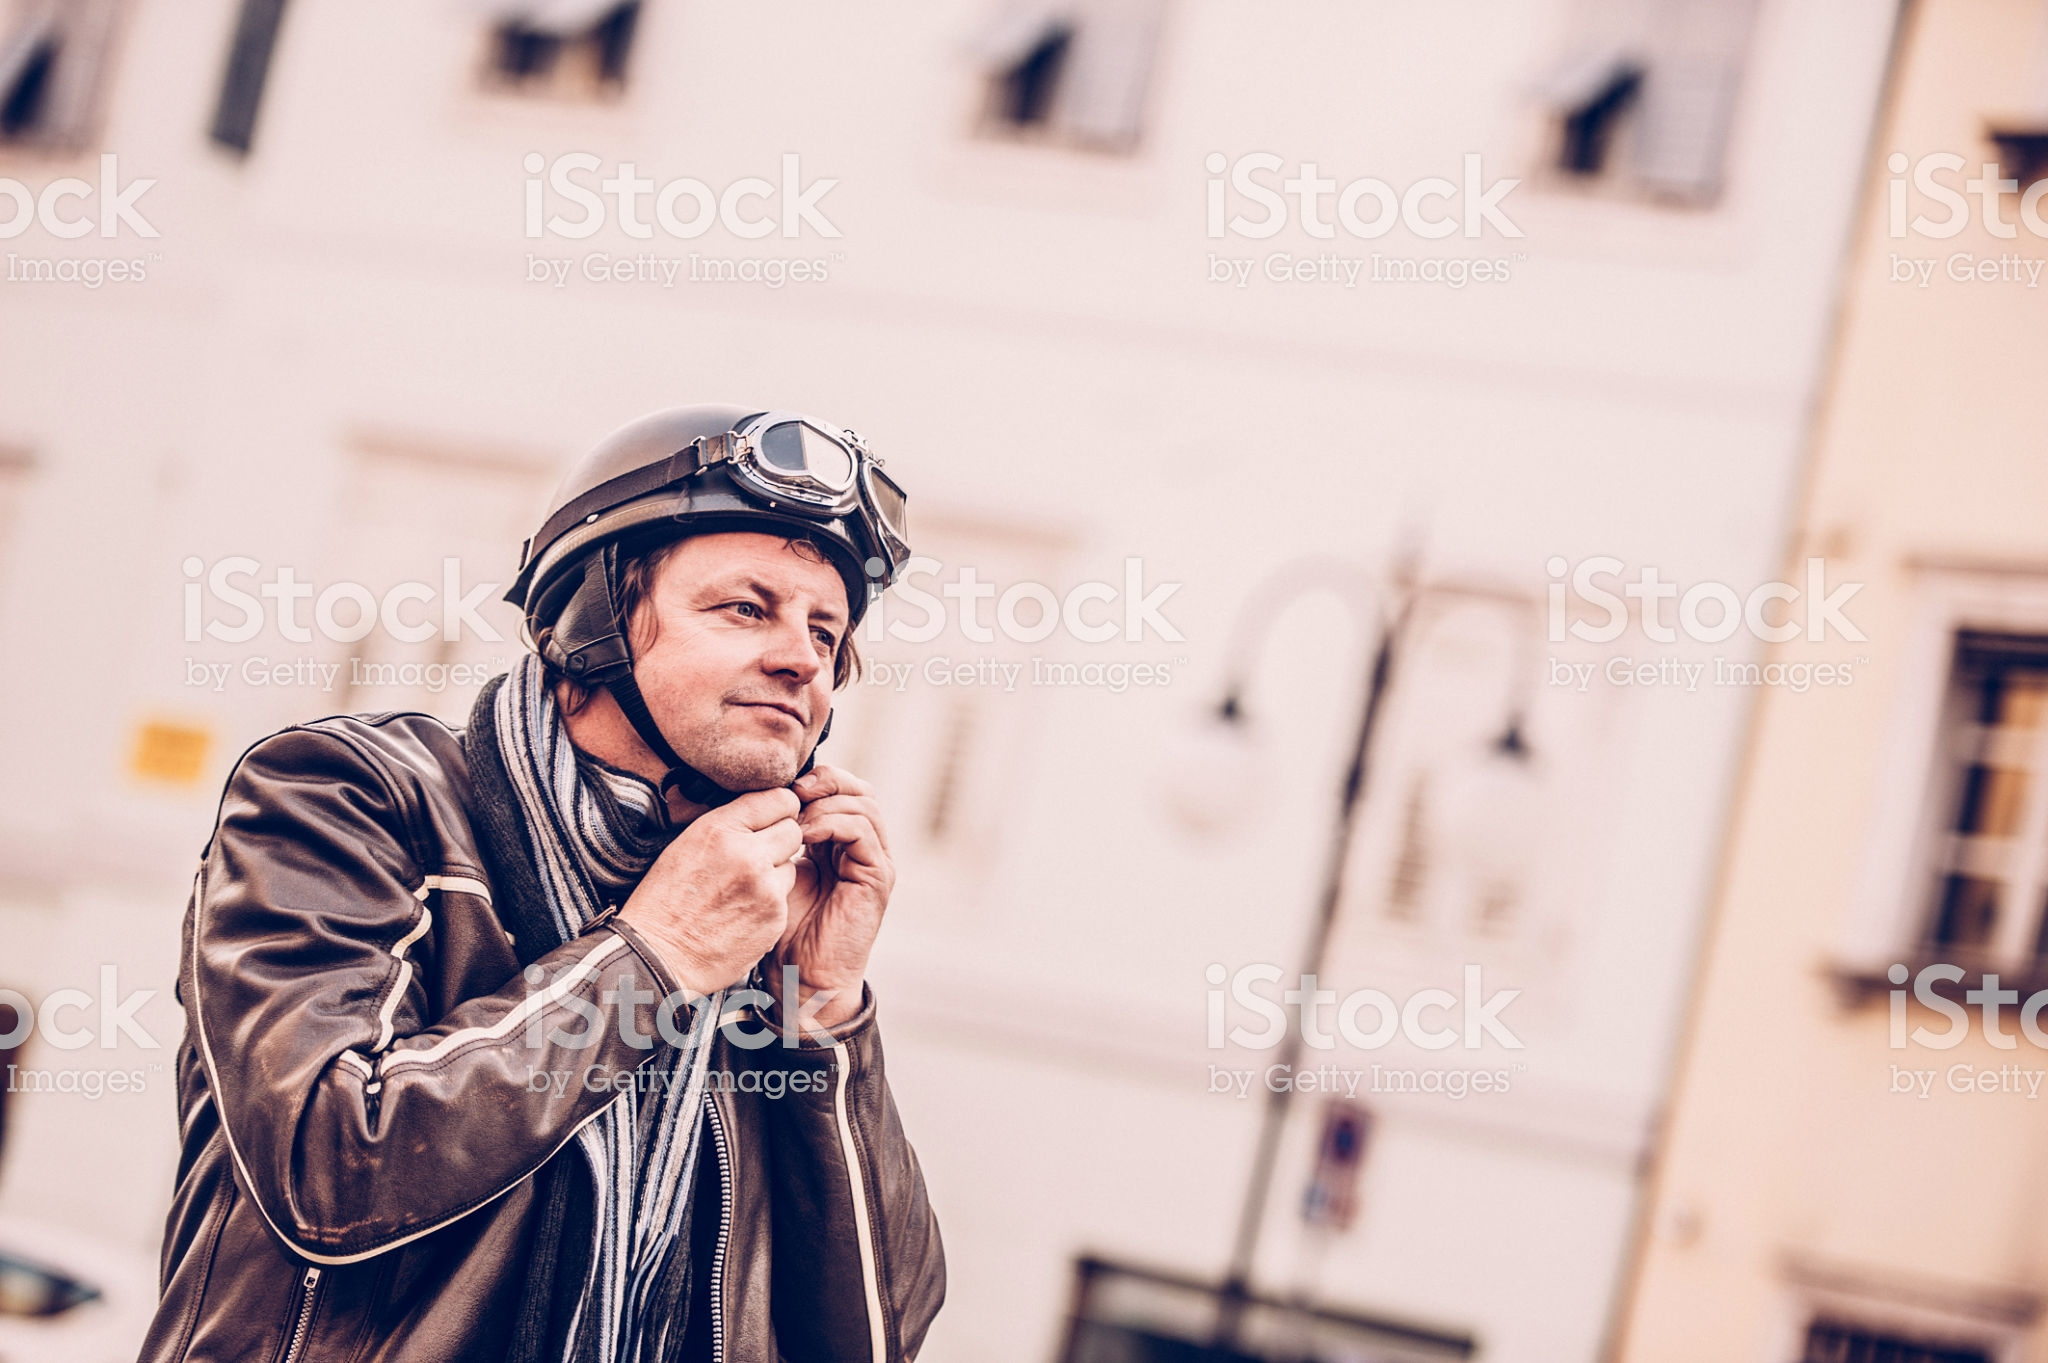helmet: (494, 376, 946, 592)
